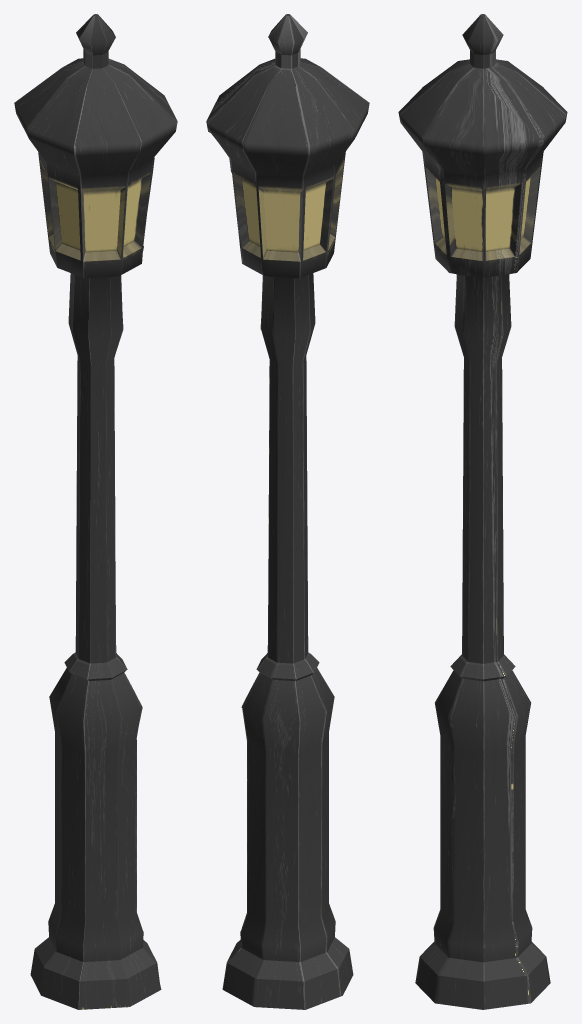
File: farolaPrueba.glb
3 renders of one model, left to right at view 1: azimuth 30°, elevation 25°; view 2: azimuth 150°, elevation 25°; view 3: azimuth 270°, elevation 25°, orthographic.
Parts seen in each view (by area): view 1: Object_2; view 2: Object_2; view 3: Object_2.
Part boxes in pixels (x1,y1,x2,y2): Object_2: [14, 14, 177, 1009]; Object_2: [206, 14, 369, 1009]; Object_2: [398, 14, 567, 1009].
Size of the model in its own units: 1.38 by 9.31 by 1.47.
Materials: 1 (1 with a texture image).
